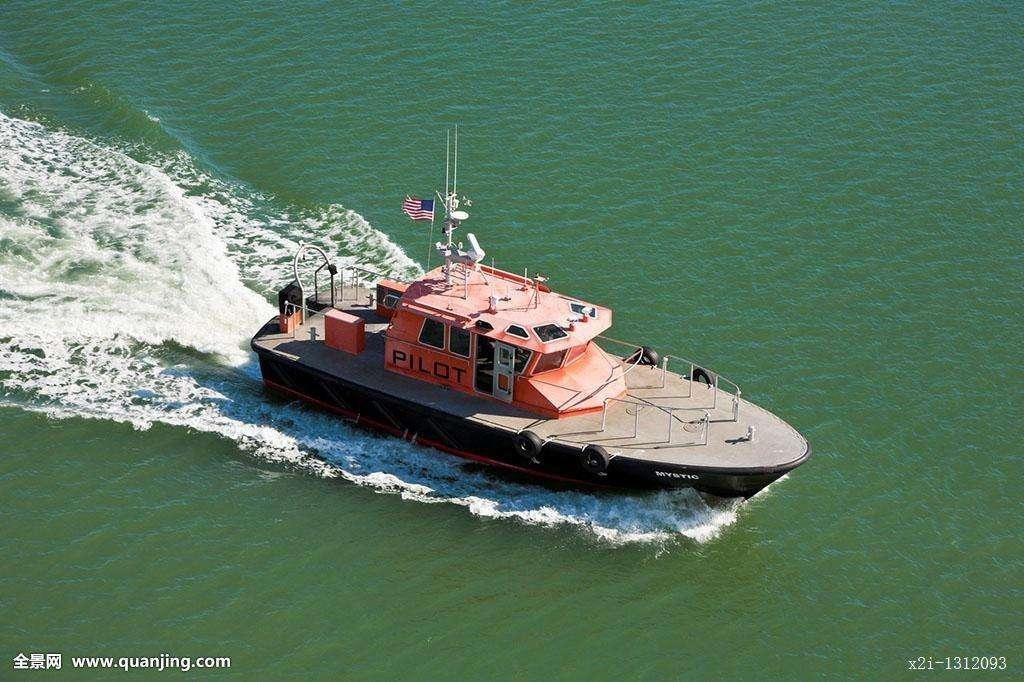yacht: (247, 166, 824, 504)
